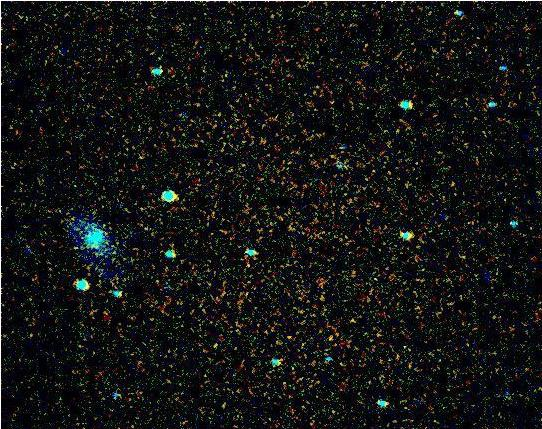star: (62, 234, 92, 264)
